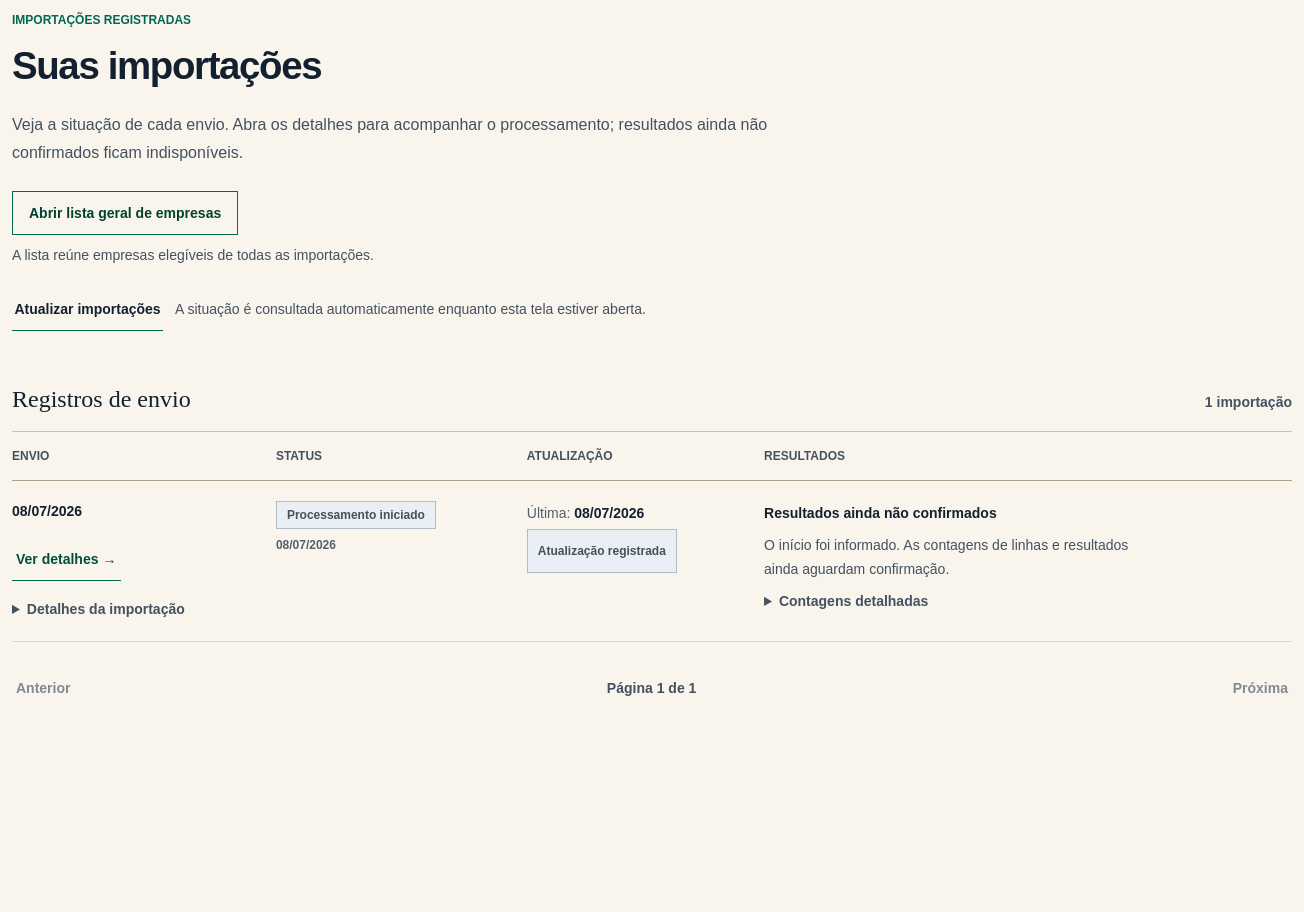
Scenario: batch list page › distinguishes started reports and retained updates from confirmed results
Expected: the link with aria-label "Ver atualização da importação enviada em 08/07/2026" reads "Atualização registrada", [527,529,677,573]
Expected: the text "empresaqui_2026-07-08T12:00:00.000Z" does not show "Atualizações disponíveis", [12,480,1292,642]
Click the heading "Contagens detalhadas" at (854, 601), box [779,593,928,609]
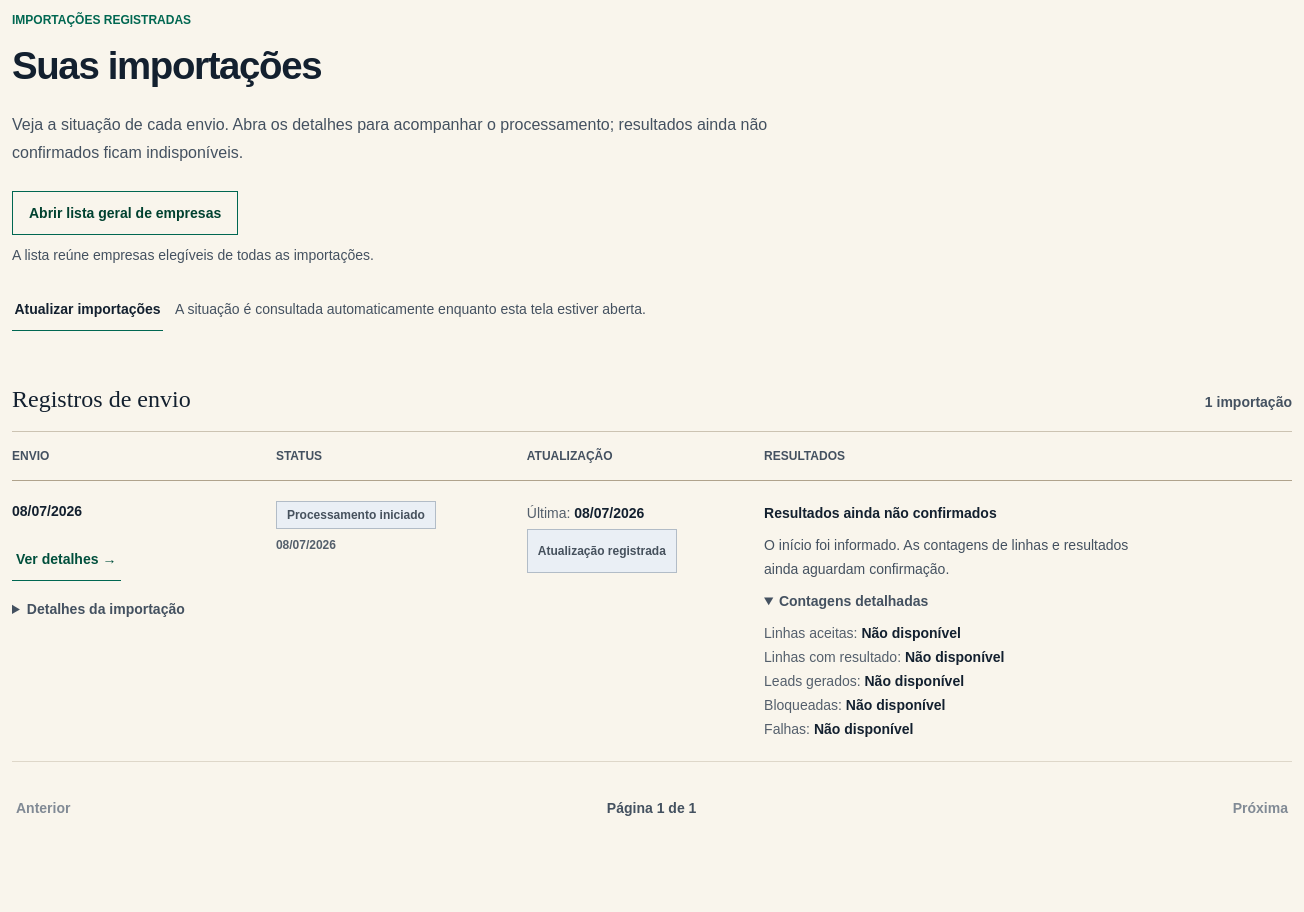
Expected: the text "empresaqui_2026-07-08T12:00:00.000Z" does not show "Concluído", [12,480,1292,762]
Result: the text "Linhas aceitas:" is shown at [764,625,861,641]
